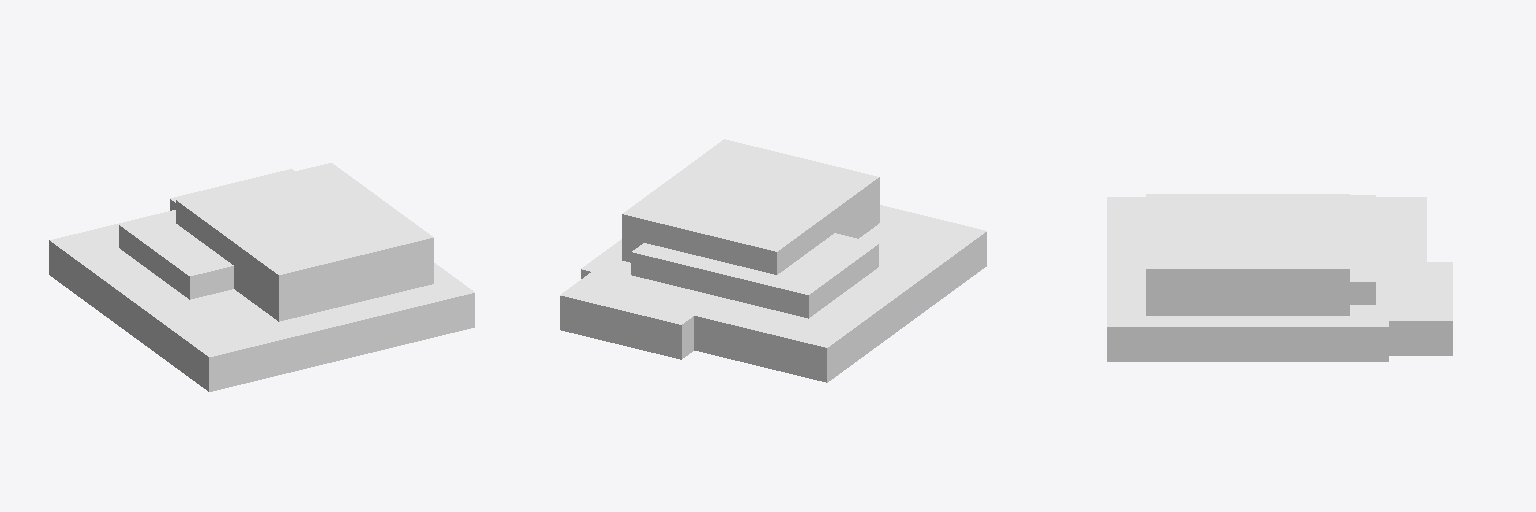
The model's file is stone03.obj.
The picture shows the model from 3 angles: view 1: azimuth 30°, elevation 25°; view 2: azimuth 150°, elevation 25°; view 3: azimuth 270°, elevation 25°; orthographic projection.
Visible parts, largest first — view 1: object 1; view 2: object 1; view 3: object 1.
Part boxes in pixels (x1,y1,x2,y2): object 1: (49, 163, 474, 391); object 1: (560, 139, 986, 382); object 1: (1107, 194, 1452, 361).
Size of the model in its own units: 2.4 by 0.7 by 2.7.